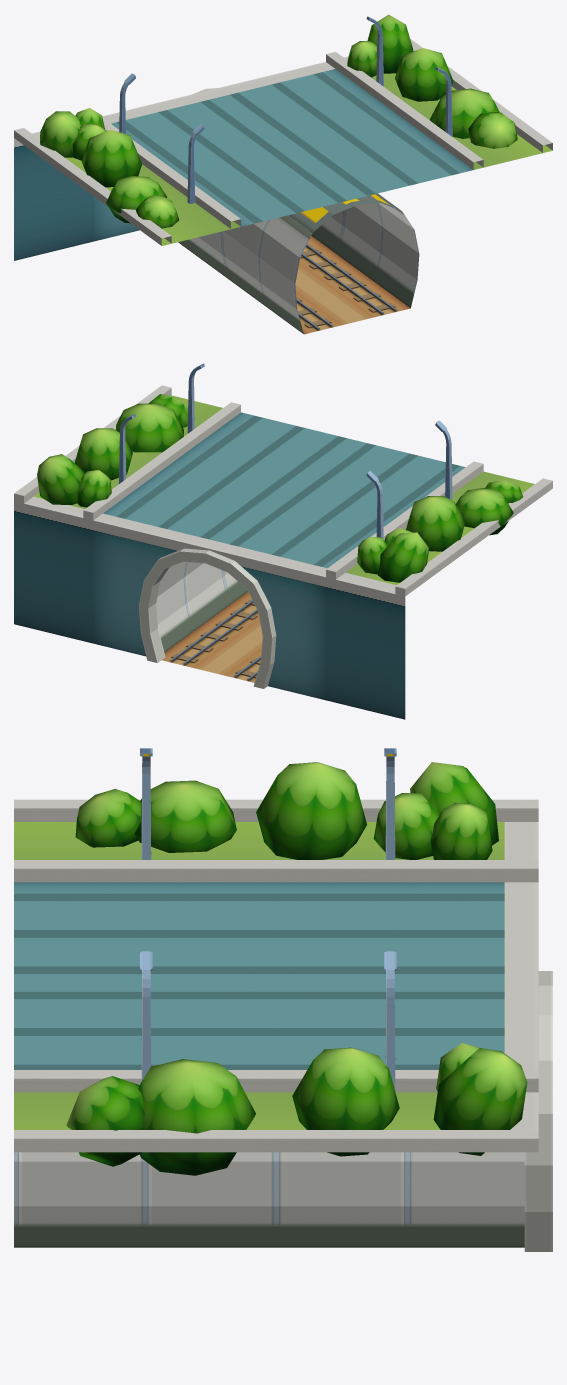
The model's file is Tunnel01_03.FBX.
3 renders of one model, top to bottom at view 1: azimuth 30°, elevation 25°; view 2: azimuth 150°, elevation 25°; view 3: azimuth 270°, elevation 25°, orthographic. The views are drawn at different scales.
Parts seen in each view (by area): view 1: Tunnel, Rail (×2); view 2: Tunnel, Rail; view 3: Tunnel.
Part boxes in pixels (x1,y1,x2,y2): Tunnel: [14, 14, 552, 333]; Rail (×2): [295, 236, 410, 334]; Tunnel: [14, 363, 552, 719]; Rail: [162, 605, 262, 682]; Tunnel: [14, 748, 552, 1251].
Size of the model in its own units: 2465 by 1183 by 1643.
